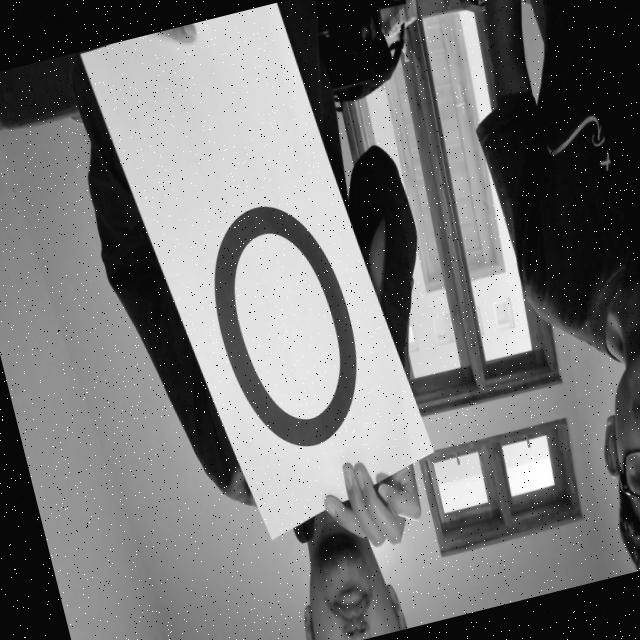o: (165, 154, 392, 488)
